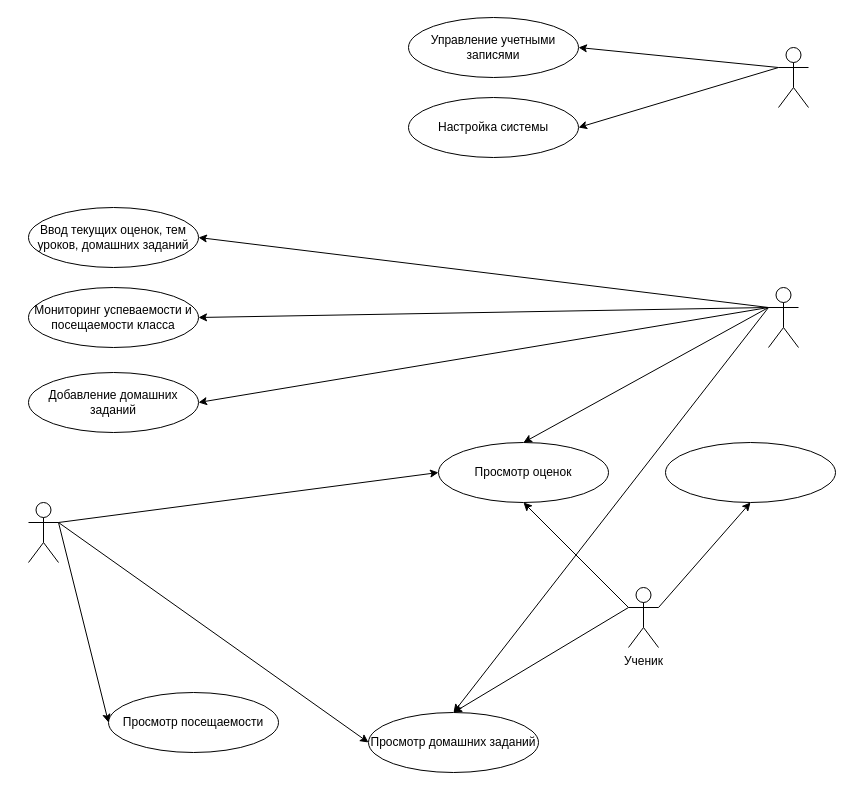
This 854x790 diagram has some shape labels left out. The centre of each missing label's shape, as x and y in pixels:
"Администратор" belongs at (793,77).
"Просмотр расписания" belongs at (750,472).
"Родитель" belongs at (43,532).
"Учитель" belongs at (783,317).
